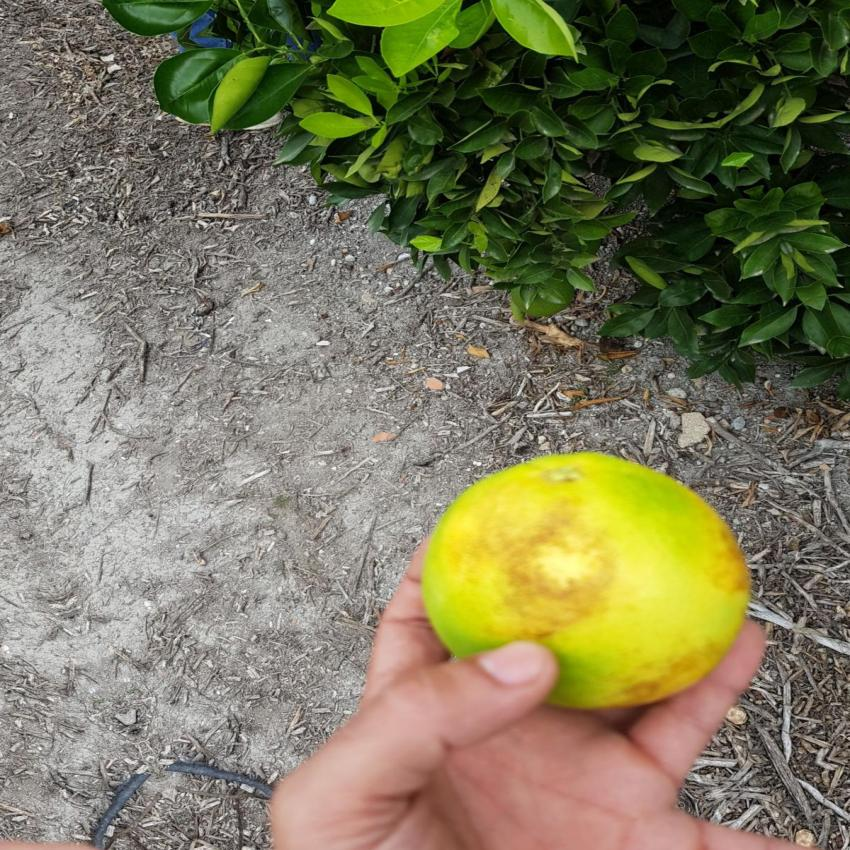Mal estado: (370, 455, 792, 718)
